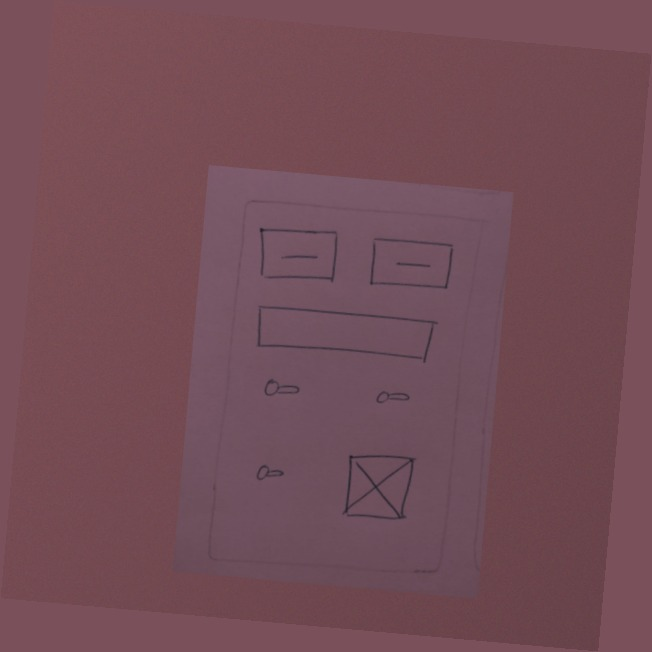button: (359, 227, 459, 303), (250, 218, 345, 289)
image: (336, 445, 422, 530)
switch: (251, 368, 313, 405)
text_input: (245, 294, 442, 371), (360, 383, 419, 413), (249, 454, 291, 489)
